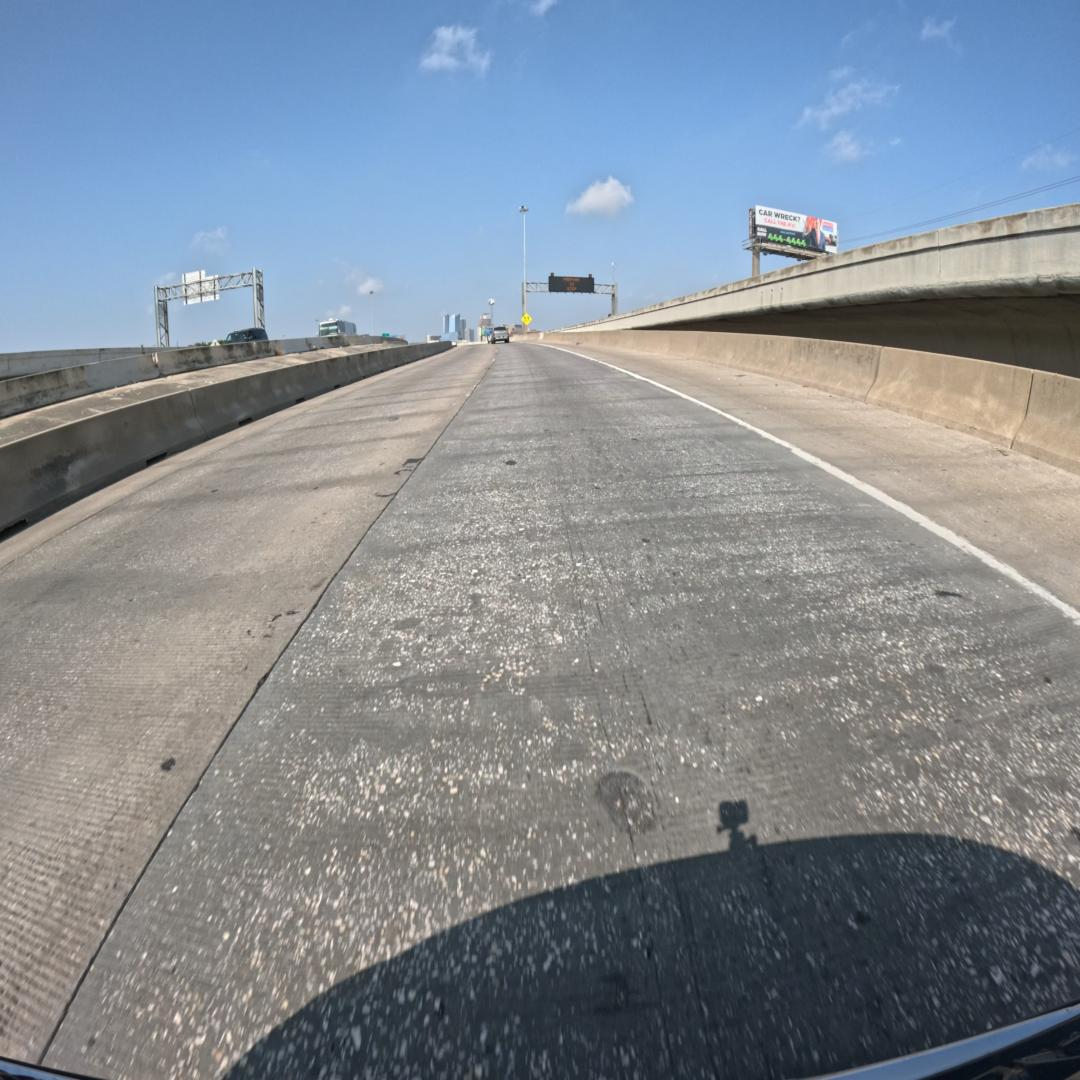lane0: (64, 345, 1080, 1077)
lane1: (0, 346, 494, 1062)
